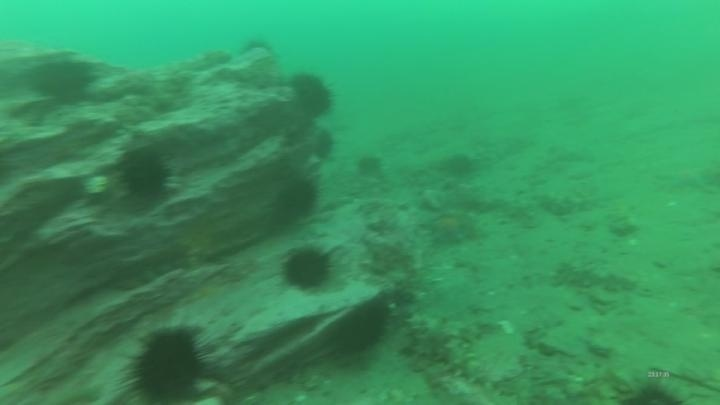echinus: (121, 322, 214, 404), (324, 297, 393, 363), (116, 145, 175, 205), (30, 56, 96, 106), (606, 368, 691, 405), (278, 243, 336, 294), (269, 175, 321, 226), (289, 70, 337, 121), (439, 150, 479, 181), (308, 126, 338, 163), (354, 152, 385, 180)
holothurian: (403, 309, 492, 388), (550, 257, 640, 297), (534, 186, 597, 218)
starfish: (422, 207, 480, 248), (657, 159, 715, 195)
